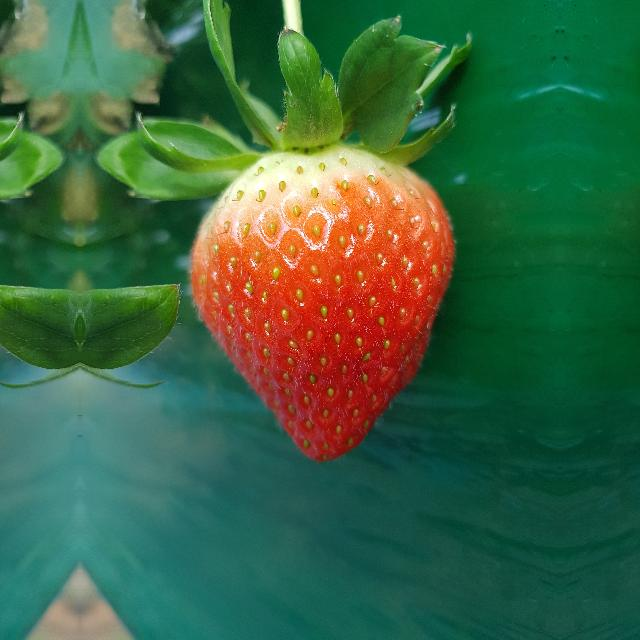Health_100: (185, 150, 453, 460)
